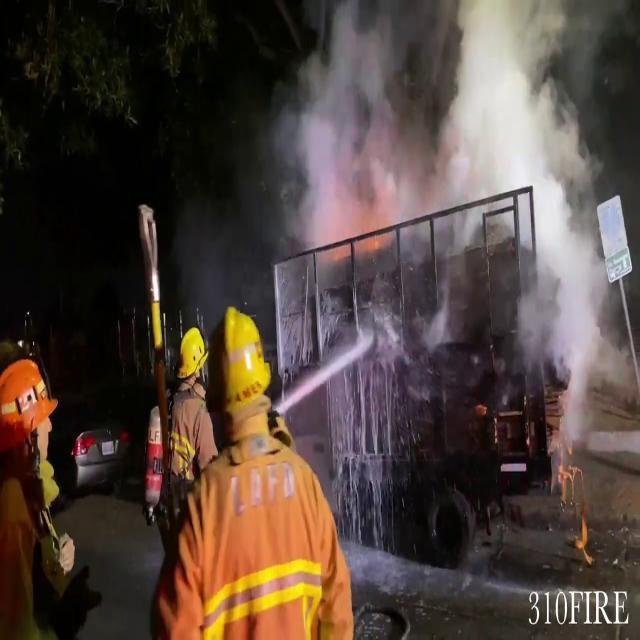Smoke: (273, 0, 612, 269)
